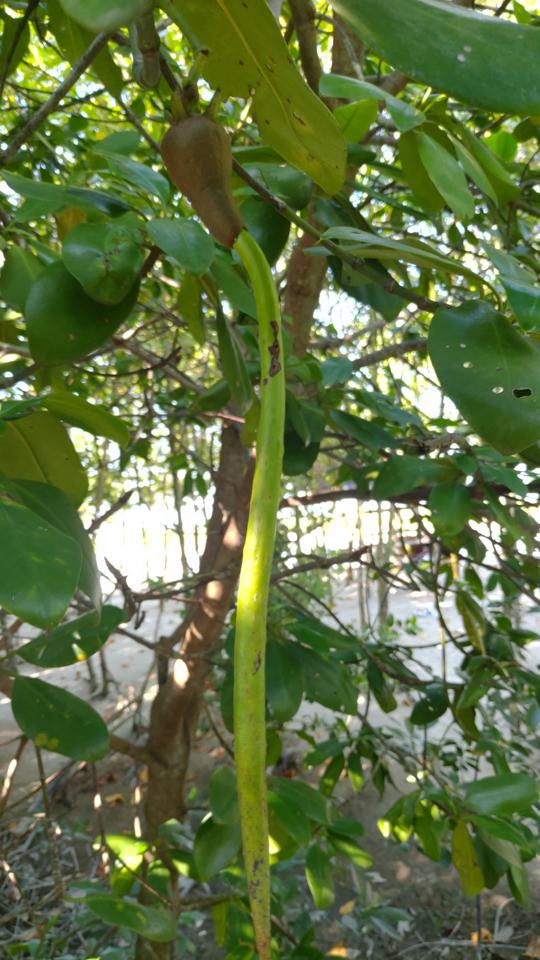mentah: (153, 89, 302, 952)
